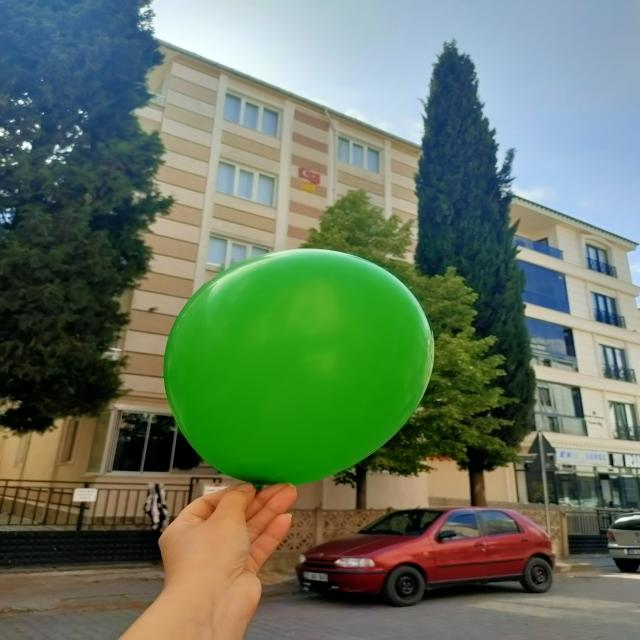green: (164, 249, 435, 488)
